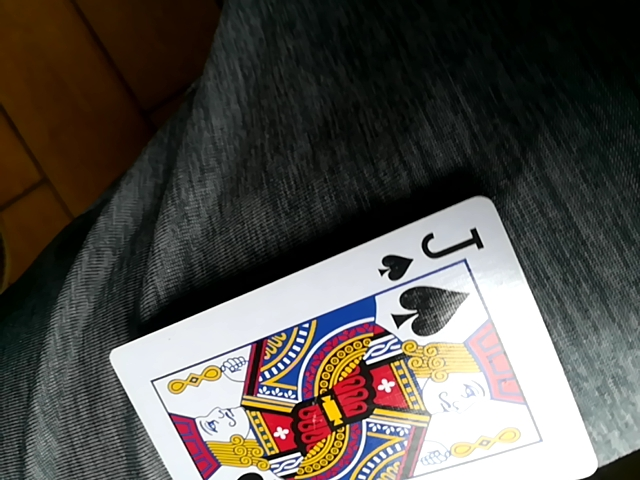ht j: (121, 189, 598, 480)
